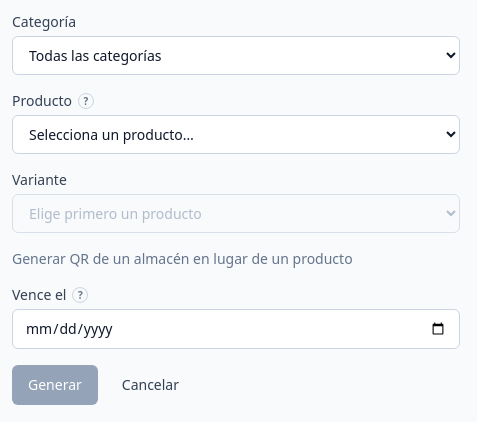
it: QrForm › shows a safe error on 403 and does not navigate
Click the button "Generar QR de un almacén en lugar de un producto".
click(182, 259)  # box [12, 249, 353, 269]
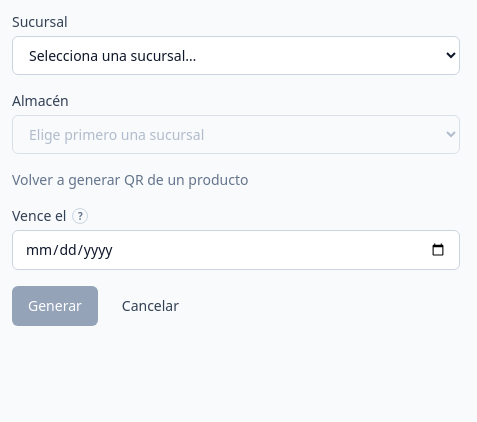
Select "Sucursal Central" in the dropdown labelled "Sucursal" at (236, 56), box [12, 36, 460, 75]
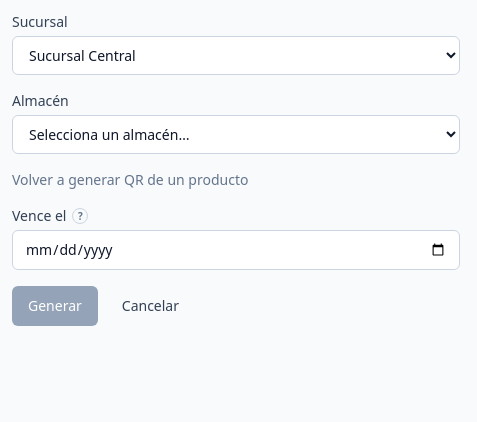
Select "Main floor" in the dropdown labelled "Almacén" at (236, 134), box [12, 115, 460, 154]
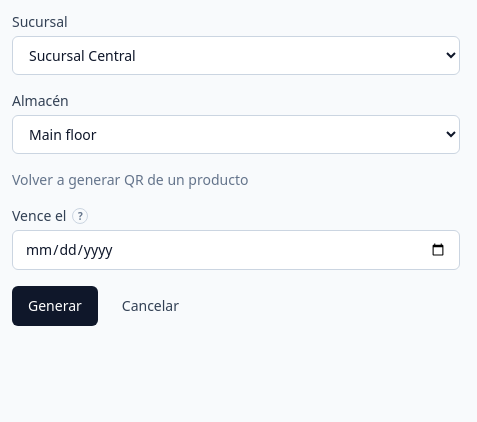
Click the button "Generar".
click(55, 306)  # box [12, 286, 98, 326]
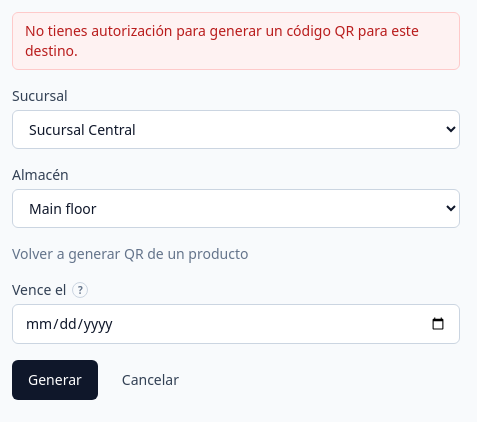
Expected: the message shows "No tienes autorización", [25, 21, 419, 60]
